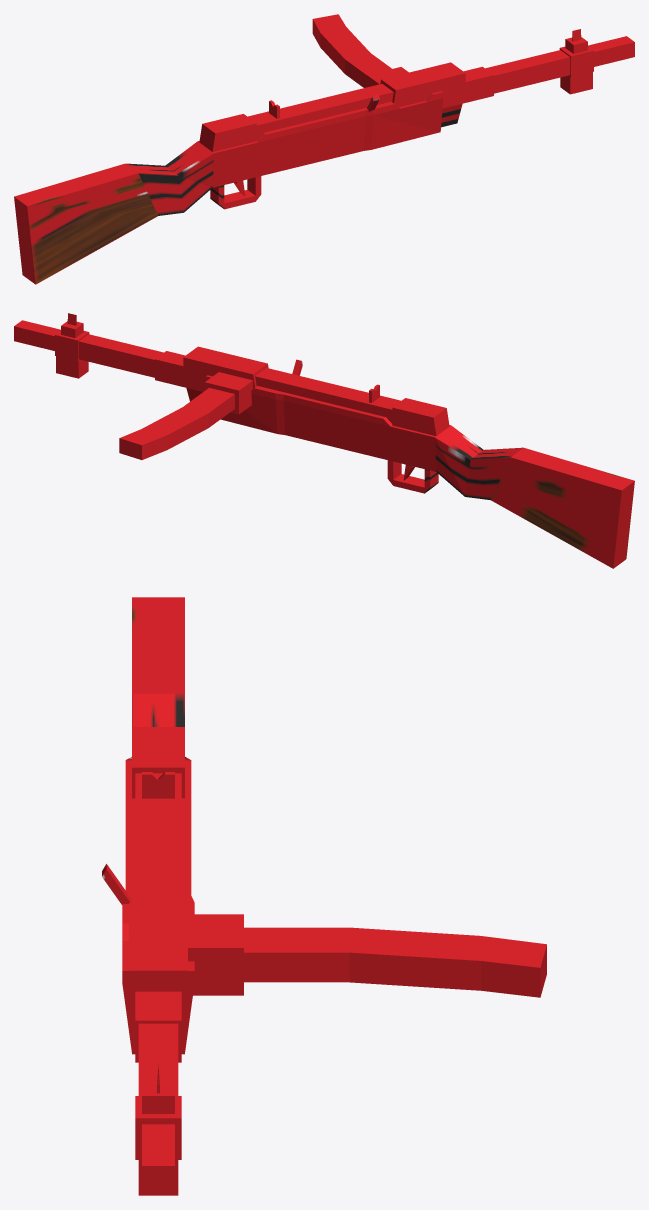
File: ModelType100L.obj
The picture shows the model from 3 angles, top to bottom: view 1: azimuth 30°, elevation 25°; view 2: azimuth 150°, elevation 25°; view 3: azimuth 270°, elevation 25°; orthographic projection. The views are drawn at different scales.
Parts seen in each view (by area): view 1: gunModel, ammoModel; view 2: gunModel, ammoModel; view 3: gunModel, ammoModel.
Boxes of the visible parts, x1,y1,x2,y2 form: gunModel: (14, 29, 634, 284); ammoModel: (312, 14, 391, 87); gunModel: (14, 313, 634, 568); ammoModel: (119, 388, 234, 459); gunModel: (122, 597, 243, 1195); ammoModel: (244, 927, 546, 997).
Bounding box in the file's own units: 21.4 × 3.9 × 6.76.
